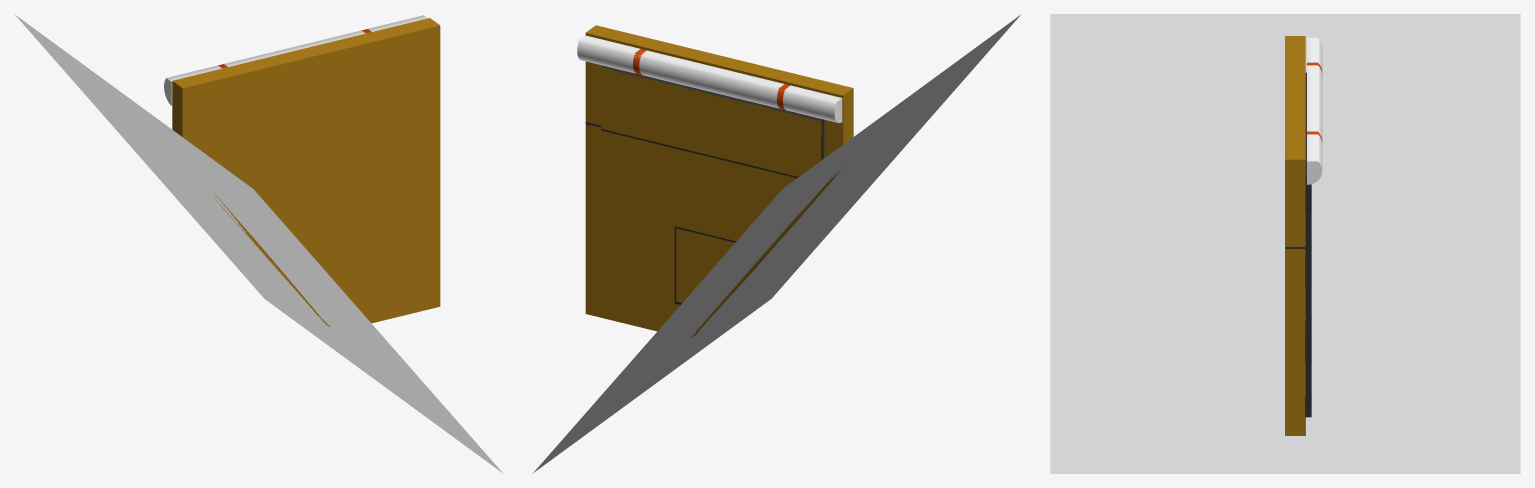
Rendered from wallTextCorner.fbx.
3 views of the same model, side by side, from view 1: azimuth 30°, elevation 25°; view 2: azimuth 150°, elevation 25°; view 3: azimuth 270°, elevation 25° (orthographic).
Visible parts, largest first — view 1: wall, Plane, Cylinder; view 2: wall, Plane, Cylinder; view 3: Plane, wall, Cylinder.
Part boxes in pixels (x1,y1,x2,y2): wall: (172,18,440,327); Plane: (14,14,503,473); Cylinder: (164,15,427,105); wall: (585,25,853,338); Plane: (532,14,1021,473); Cylinder: (577,35,842,123); Plane: (1050,14,1520,473); wall: (1285,36,1311,435); Cylinder: (1307,37,1322,184).
Size of the model in its own units: 312 by 338 by 422.
Materials: 2 (2 with a texture image).
